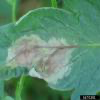Tomato leaf late blight: (1, 6, 99, 92)
